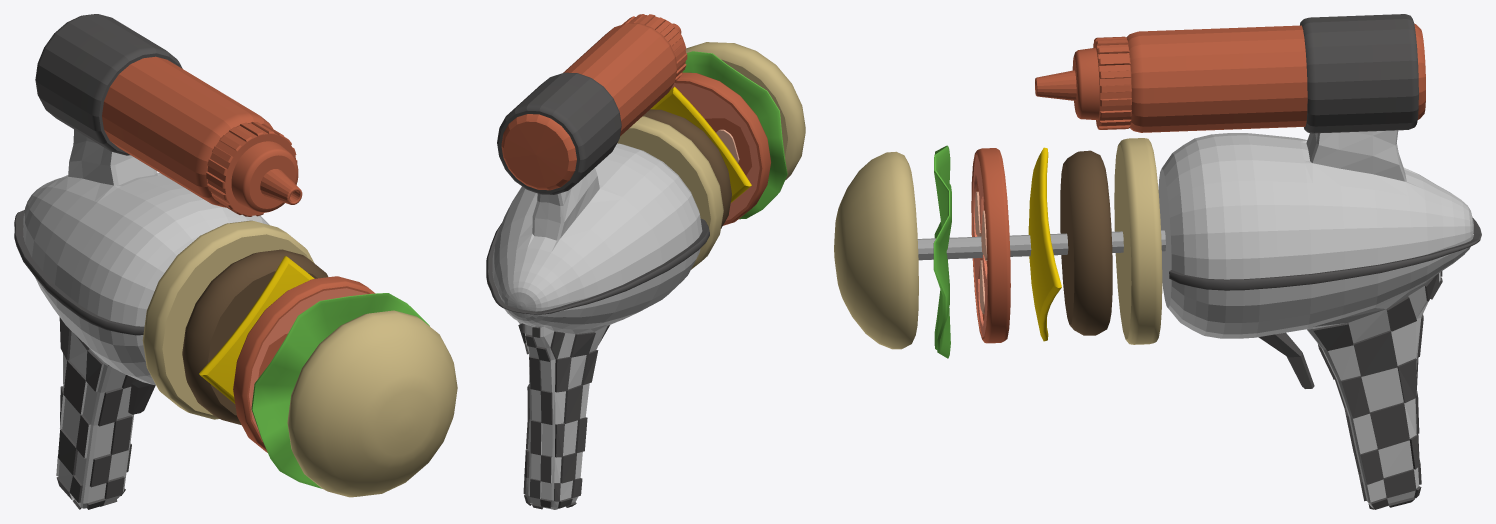
File: burgerGun.fbx
3 views of the same model, side by side, from view 1: azimuth 30°, elevation 25°; view 2: azimuth 150°, elevation 25°; view 3: azimuth 270°, elevation 25° (orthographic). The views are drawn at different scales.
Visible parts, largest first — view 1: mainBodywithScopeHolder, topBun, ketchupBottle, bottomBun, ScopeHolder, lettuce1, hamburger, ketchupCap, tomatoSkin, cheesewithbend2, rim, tomatoFlesh (+1 smaller); view 2: mainBodywithScopeHolder, ketchupBottle, ScopeHolder, bottomBun, topBun, lettuce1, tomatoSkin, tomatoFlesh, rim, cheesewithbend2, hamburger, ketchupCap (+1 smaller); view 3: mainBodywithScopeHolder, ketchupBottle, topBun, ScopeHolder, bottomBun, hamburger, tomatoSkin, ketchupCap, cheesewithbend2, rim, lettuce1, pole (+2 smaller).
Boxes of the visible parts, left/top/right/bottom form: mainBodywithScopeHolder: left=23, top=129, right=269, bottom=509; topBun: left=287, top=310, right=457, bottom=497; ketchupBottle: left=102, top=56, right=272, bottom=207; bottomBun: left=142, top=220, right=314, bottom=419; ScopeHolder: left=35, top=14, right=182, bottom=155; lettuce1: left=251, top=293, right=429, bottom=488; hamburger: left=182, top=249, right=328, bottom=424; ketchupCap: left=206, top=122, right=298, bottom=216; tomatoSkin: left=233, top=276, right=375, bottom=452; cheesewithbend2: left=199, top=256, right=314, bottom=403; rim: left=14, top=210, right=144, bottom=335; tomatoFlesh: left=249, top=288, right=367, bottom=433; mainBodywithScopeHolder: left=492, top=143, right=702, bottom=509; ketchupBottle: left=501, top=23, right=677, bottom=190; ScopeHolder: left=497, top=72, right=621, bottom=194; bottomBun: left=617, top=116, right=723, bottom=269; topBun: left=685, top=42, right=805, bottom=180; lettuce1: left=682, top=51, right=787, bottom=219; tomatoSkin: left=674, top=72, right=771, bottom=225; tomatoFlesh: left=670, top=83, right=759, bottom=220; rim: left=486, top=218, right=709, bottom=314; cheesewithbend2: left=650, top=86, right=751, bottom=202; hamburger: left=643, top=109, right=731, bottom=228; ketchupCap: left=622, top=14, right=687, bottom=81; mainBodywithScopeHolder: left=1158, top=130, right=1473, bottom=509; ketchupBottle: left=1126, top=23, right=1425, bottom=132; topBun: left=834, top=151, right=918, bottom=349; ScopeHolder: left=1300, top=14, right=1418, bottom=133; bottomBun: left=1114, top=138, right=1162, bottom=344; hamburger: left=1060, top=150, right=1112, bottom=335; tomatoSkin: left=971, top=148, right=1010, bottom=343; ketchupCap: left=1072, top=36, right=1131, bottom=129; cheesewithbend2: left=1028, top=147, right=1061, bottom=341; rim: left=1169, top=218, right=1481, bottom=290; lettuce1: left=933, top=145, right=951, bottom=358; pole: left=917, top=230, right=1165, bottom=260.
Bounding box in the file's own units: 5.03 × 10.47 × 12.68.
